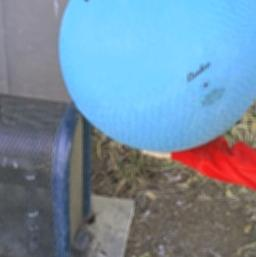algae: (56, 0, 256, 153)
